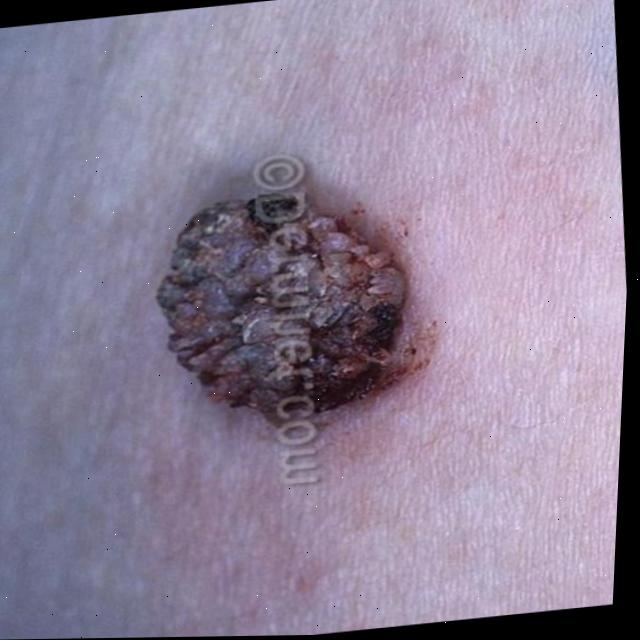Eczema: (141, 187, 460, 453)
